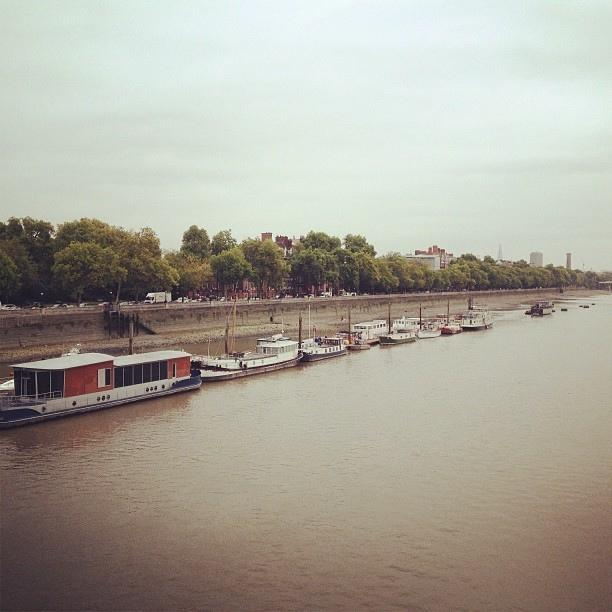car: (4, 303, 16, 310), (174, 298, 188, 304)
truck: (146, 292, 172, 304)
